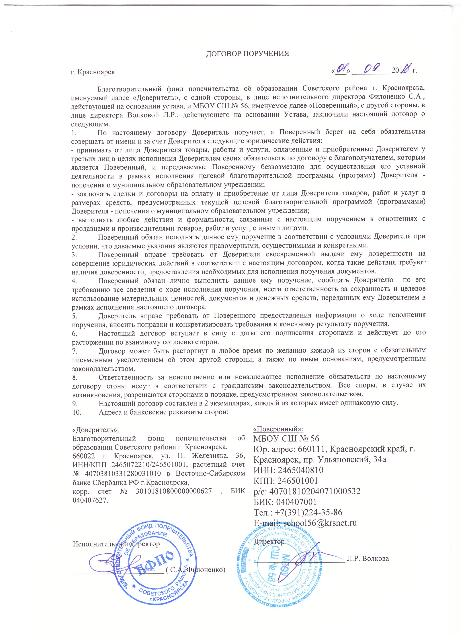stamp: (236, 522, 322, 608), (112, 519, 196, 607)
